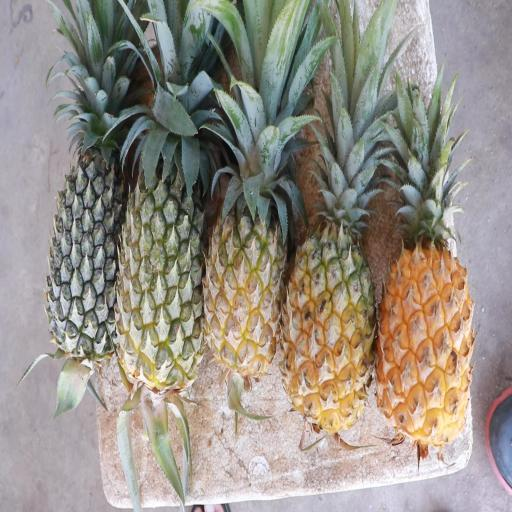------------------------------: (116, 113, 207, 386)
Pineapple - v8 v1: (375, 188, 472, 432), (289, 178, 376, 429), (206, 138, 287, 375)
